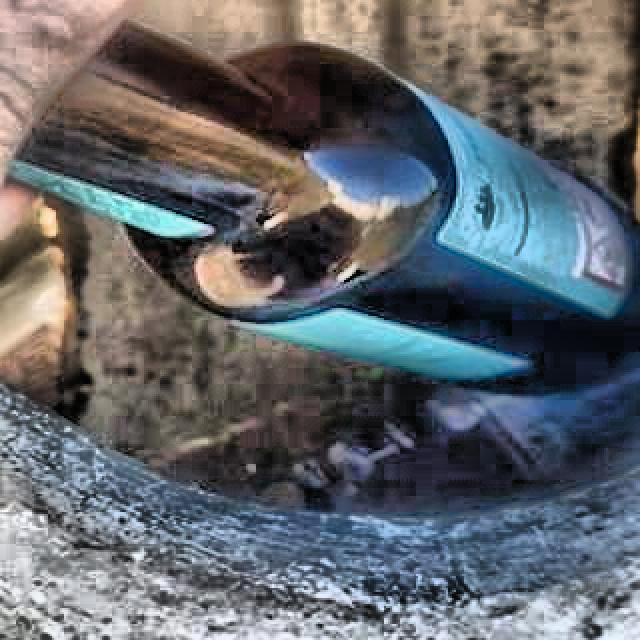glass: (11, 24, 640, 384)
